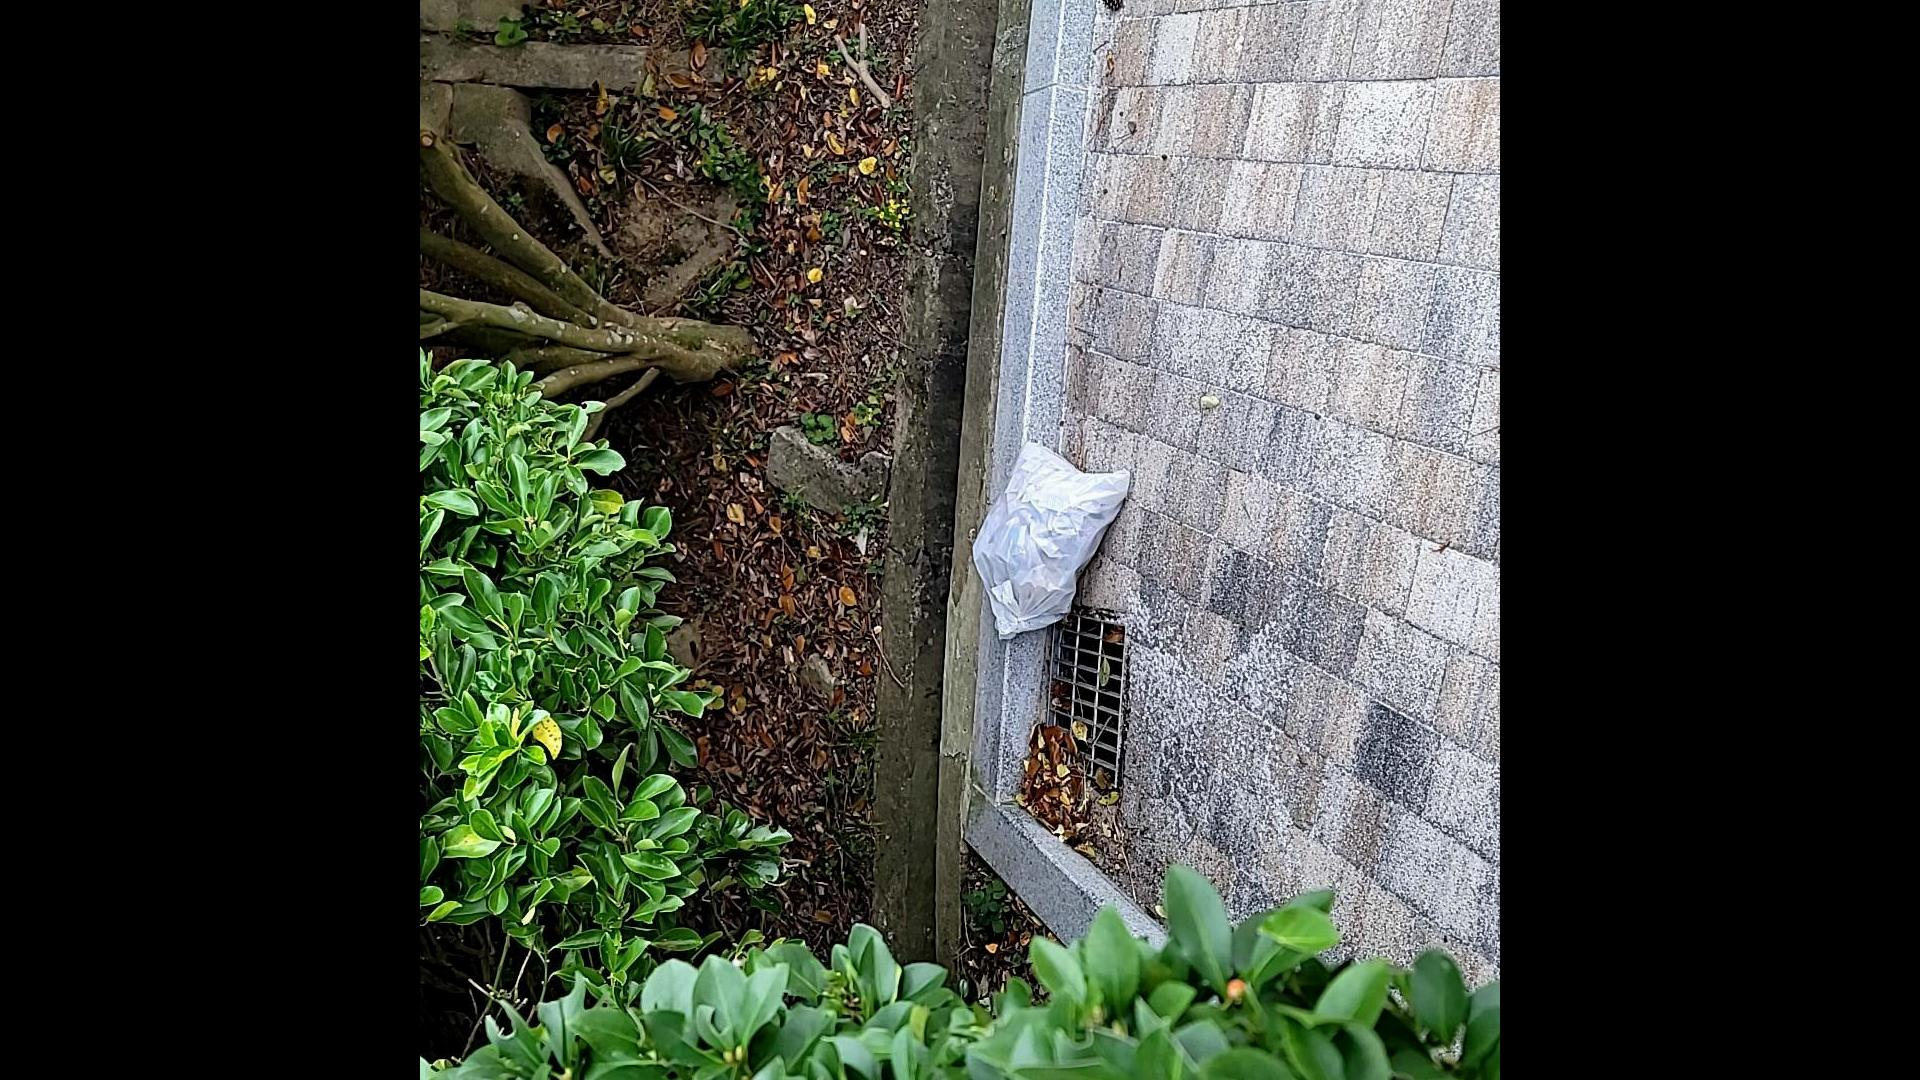white_bag: (965, 436, 1138, 651)
